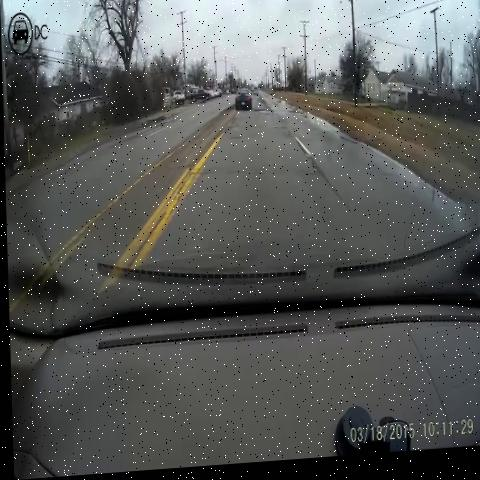pothole: (290, 130, 322, 190), (249, 107, 277, 130)
